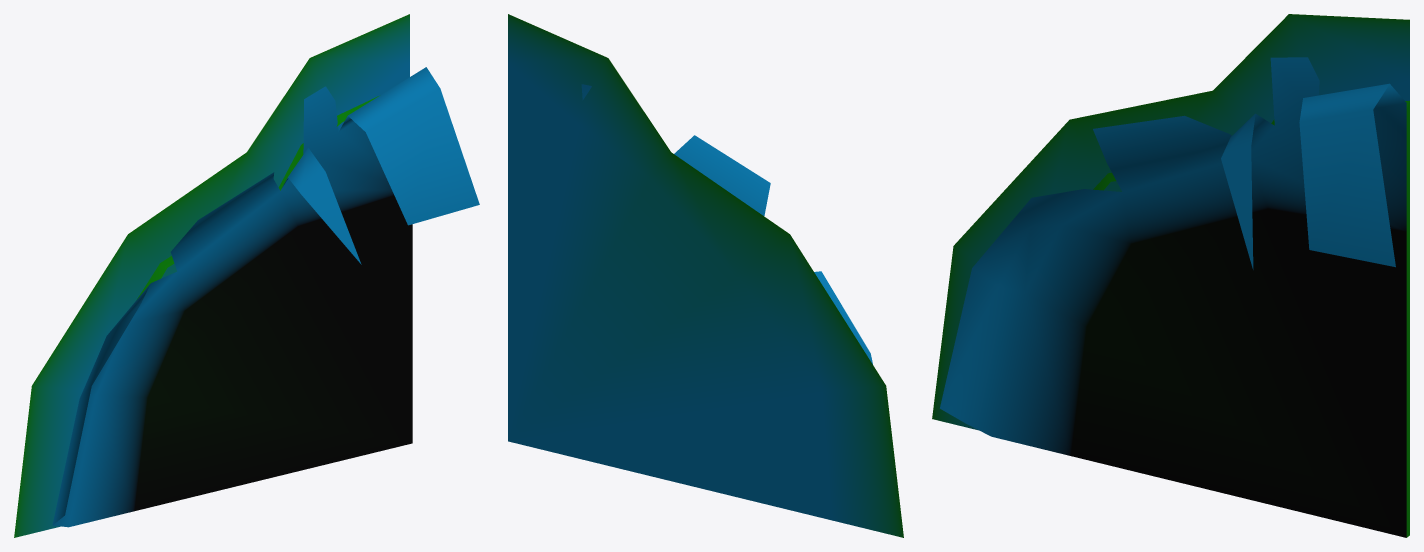
File: DBK_Drywall_End_A_Single_Mirror.fbx
3 views of the same model, side by side, from view 1: azimuth 30°, elevation 25°; view 2: azimuth 150°, elevation 25°; view 3: azimuth 330°, elevation 25° (orthographic). The views are drawn at different scales.
Visible parts, largest first — view 1: DBK_Drywall_End_A_Single_Mirror; view 2: DBK_Drywall_End_A_Single_Mirror; view 3: DBK_Drywall_End_A_Single_Mirror.
Part boxes in pixels (left/top/right/bottom): DBK_Drywall_End_A_Single_Mirror: left=14, top=14, right=479, bottom=537; DBK_Drywall_End_A_Single_Mirror: left=508, top=14, right=903, bottom=537; DBK_Drywall_End_A_Single_Mirror: left=932, top=14, right=1409, bottom=537.
Size of what is drawn, in the model's own units: 171 by 164 by 29.56.
